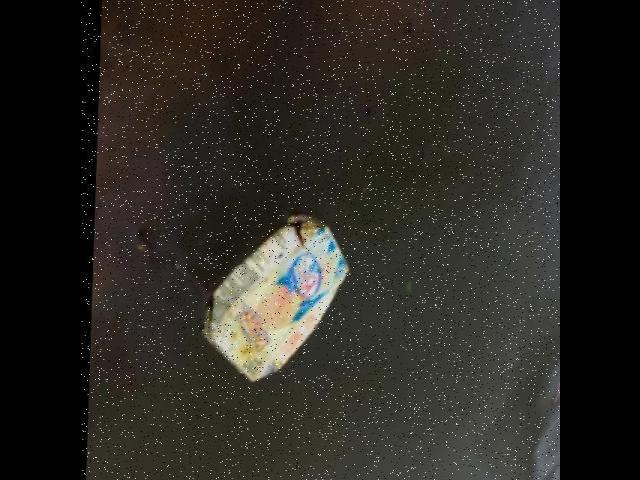Box: (197, 207, 353, 390)
